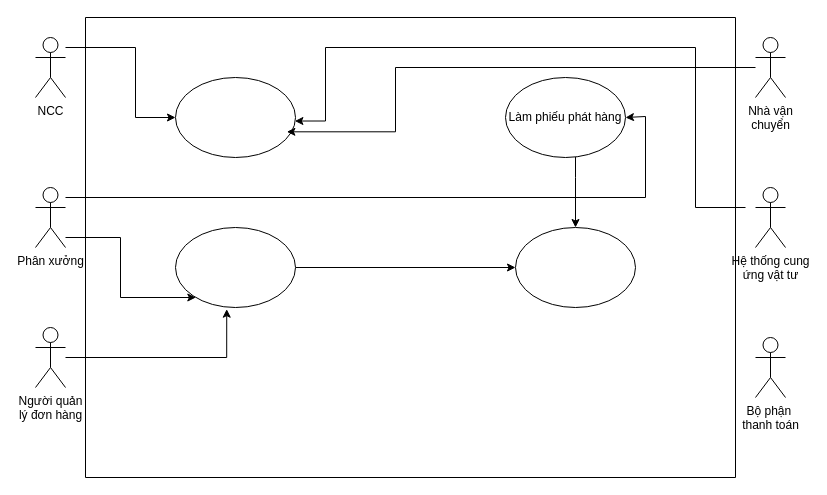
Some shapes in this 827 by 495 pixel diagram are drawn without their labels. The shapes that lost their labels are listed below. From the top down, each one's centre as x and y in pixels, then its label:
pixel 235 117: Ghi nhận giao hàng
pixel 235 267: In danh sách nhận hàng
pixel 575 267: Đối chiếu
